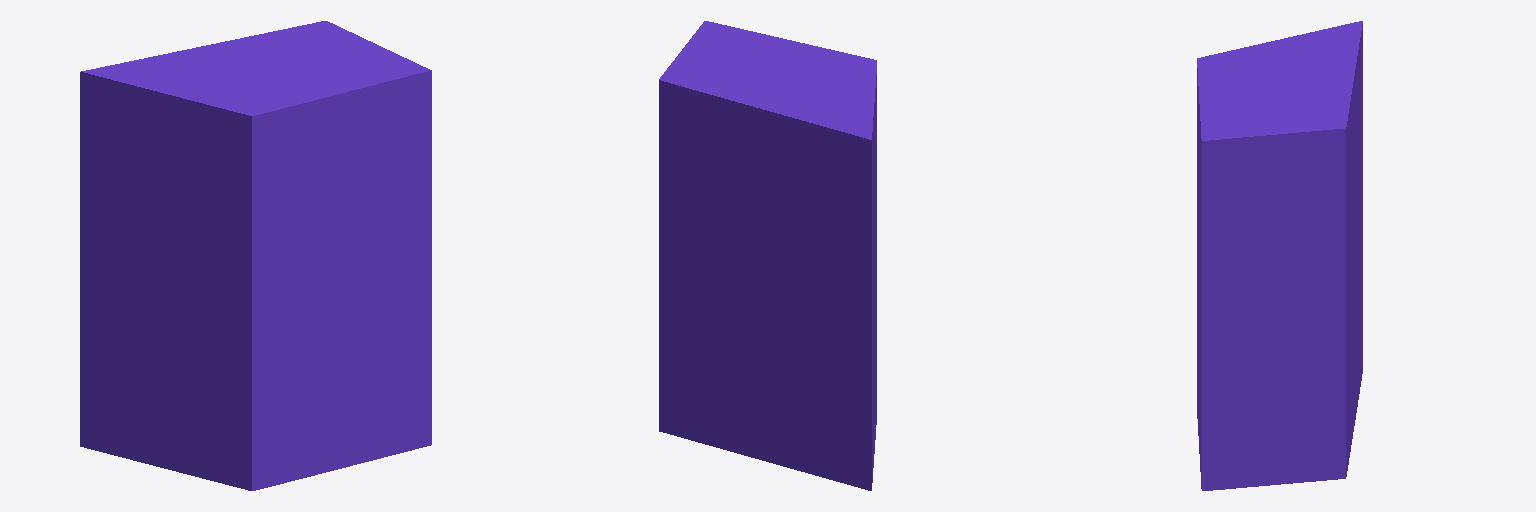
robot.urdf — quad_prism_4:
<?xml version="1.0" ?>
<robot name="quad_prism_4">
  <link name="base_link">
    <visual>
      <origin xyz="0 0 0" rpy="0 0 0"/>
      <geometry>
        <mesh filename="quad_prism_4.stl"/>
      </geometry>
      <material name="color">
        <color rgba="0.47095684515205083 0.3114538582432369 0.870857840877688 1.0"/>
      </material>
    </visual>
    <collision>
      <origin xyz="0 0 0" rpy="0 0 0"/>
      <geometry>
        <mesh filename="quad_prism_4.stl"/>
      </geometry>
    </collision>
    <inertial>
      <origin xyz="0 0 0" rpy="0 0 0"/>
      <mass value="1.0"/>
      <inertia ixx="0.1" ixy="0" ixz="0" iyy="0.1" iyz="0" izz="0.1"/>
    </inertial>
  </link>
</robot>

--- Render facts (derived) ---
The picture shows the robot from 3 angles, left to right: view 1: azimuth 30°, elevation 25°; view 2: azimuth 150°, elevation 25°; view 3: azimuth 270°, elevation 25°; orthographic projection.
Model quad_prism_4 with 1 links and 0 joints (none), rooted at base_link, posed every joint at zero.
Visible links, largest first — view 1: base_link; view 2: base_link; view 3: base_link.
Link boxes in pixels (x1=…): base_link: x1=80, y1=21, x2=431, y2=490; base_link: x1=659, y1=21, x2=876, y2=490; base_link: x1=1197, y1=21, x2=1362, y2=490.
Size in the robot's own frame: 2.22 by 1.29 by 3 metres.
1 mesh visuals loaded from 1 distinct referenced files (1 binary STL).